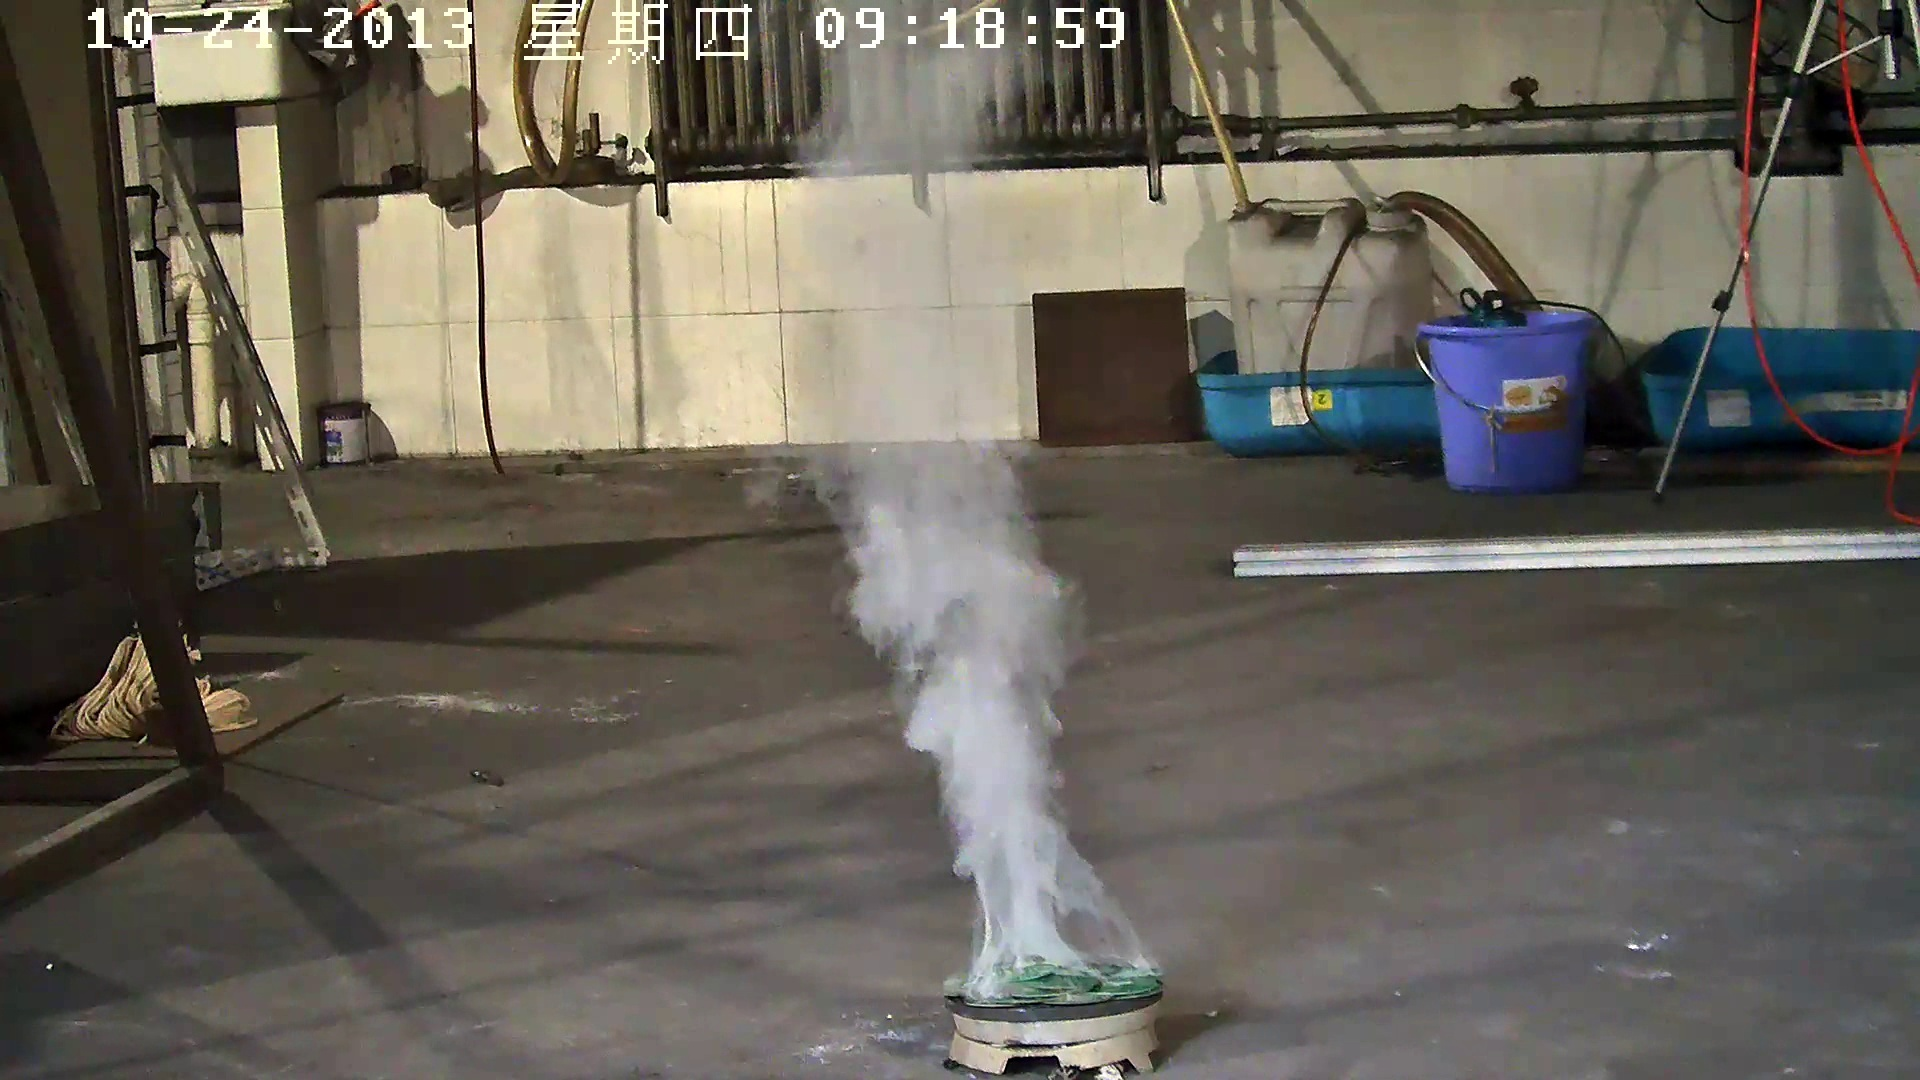smoke: (764, 161, 1182, 992)
